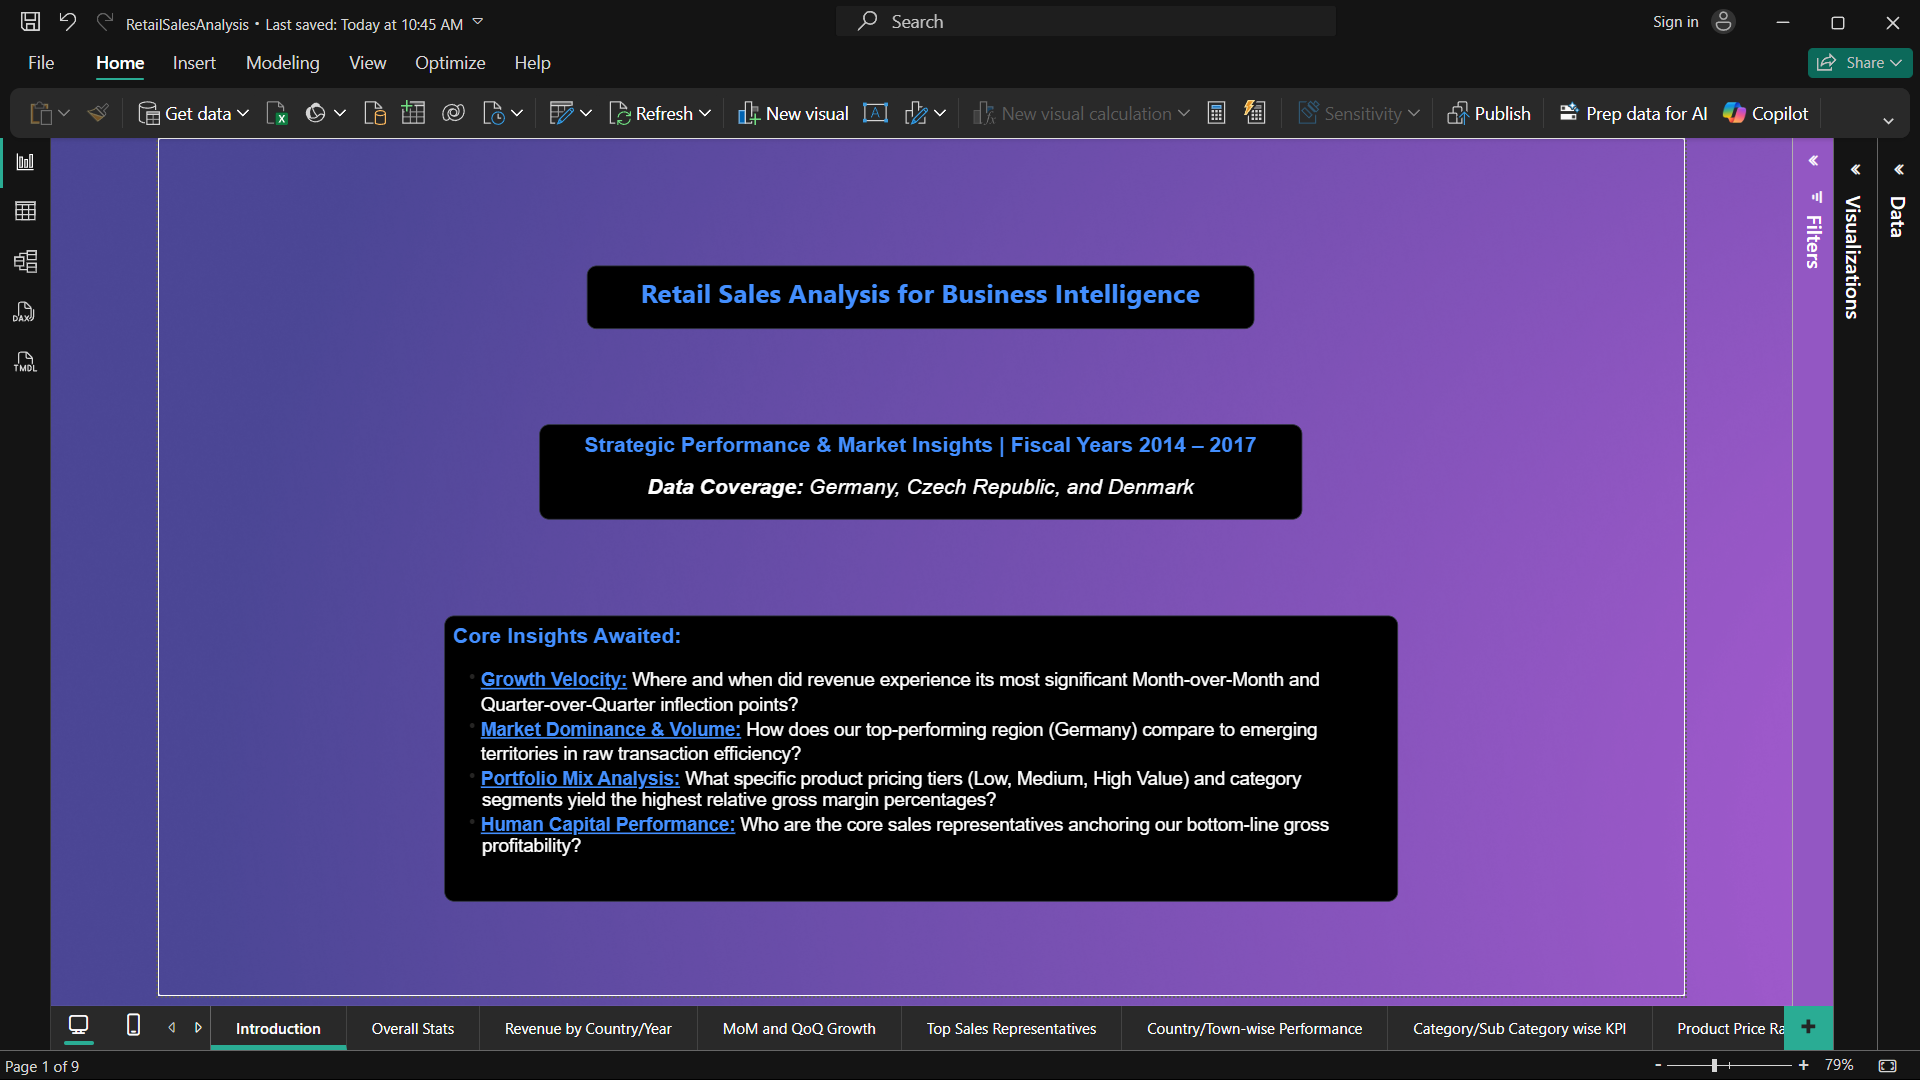

This screenshot's page, from the dashboard's own definition file:
{"tool":"powerbi","page":{"name":"Introduction","canvas":[1536,864],"ordinal":0},"visuals":[{"type":"textbox","box":[432,128,672,64],"z":0},{"type":"textbox","box":[384,288,768,96],"z":1000},{"type":"textbox","box":[288,480,960,288],"z":2000}]}

Visuals, with their boxes on the page's 1536x864 design canvas (x1, y1, x2, y2). These are canvas units, not pixel positions in the 1920x1080 screenshot, which may show the page scaled, cropped or inside an application window:
textbox: {"left": 432, "top": 128, "right": 1104, "bottom": 192}
textbox: {"left": 384, "top": 288, "right": 1152, "bottom": 384}
textbox: {"left": 288, "top": 480, "right": 1248, "bottom": 768}
